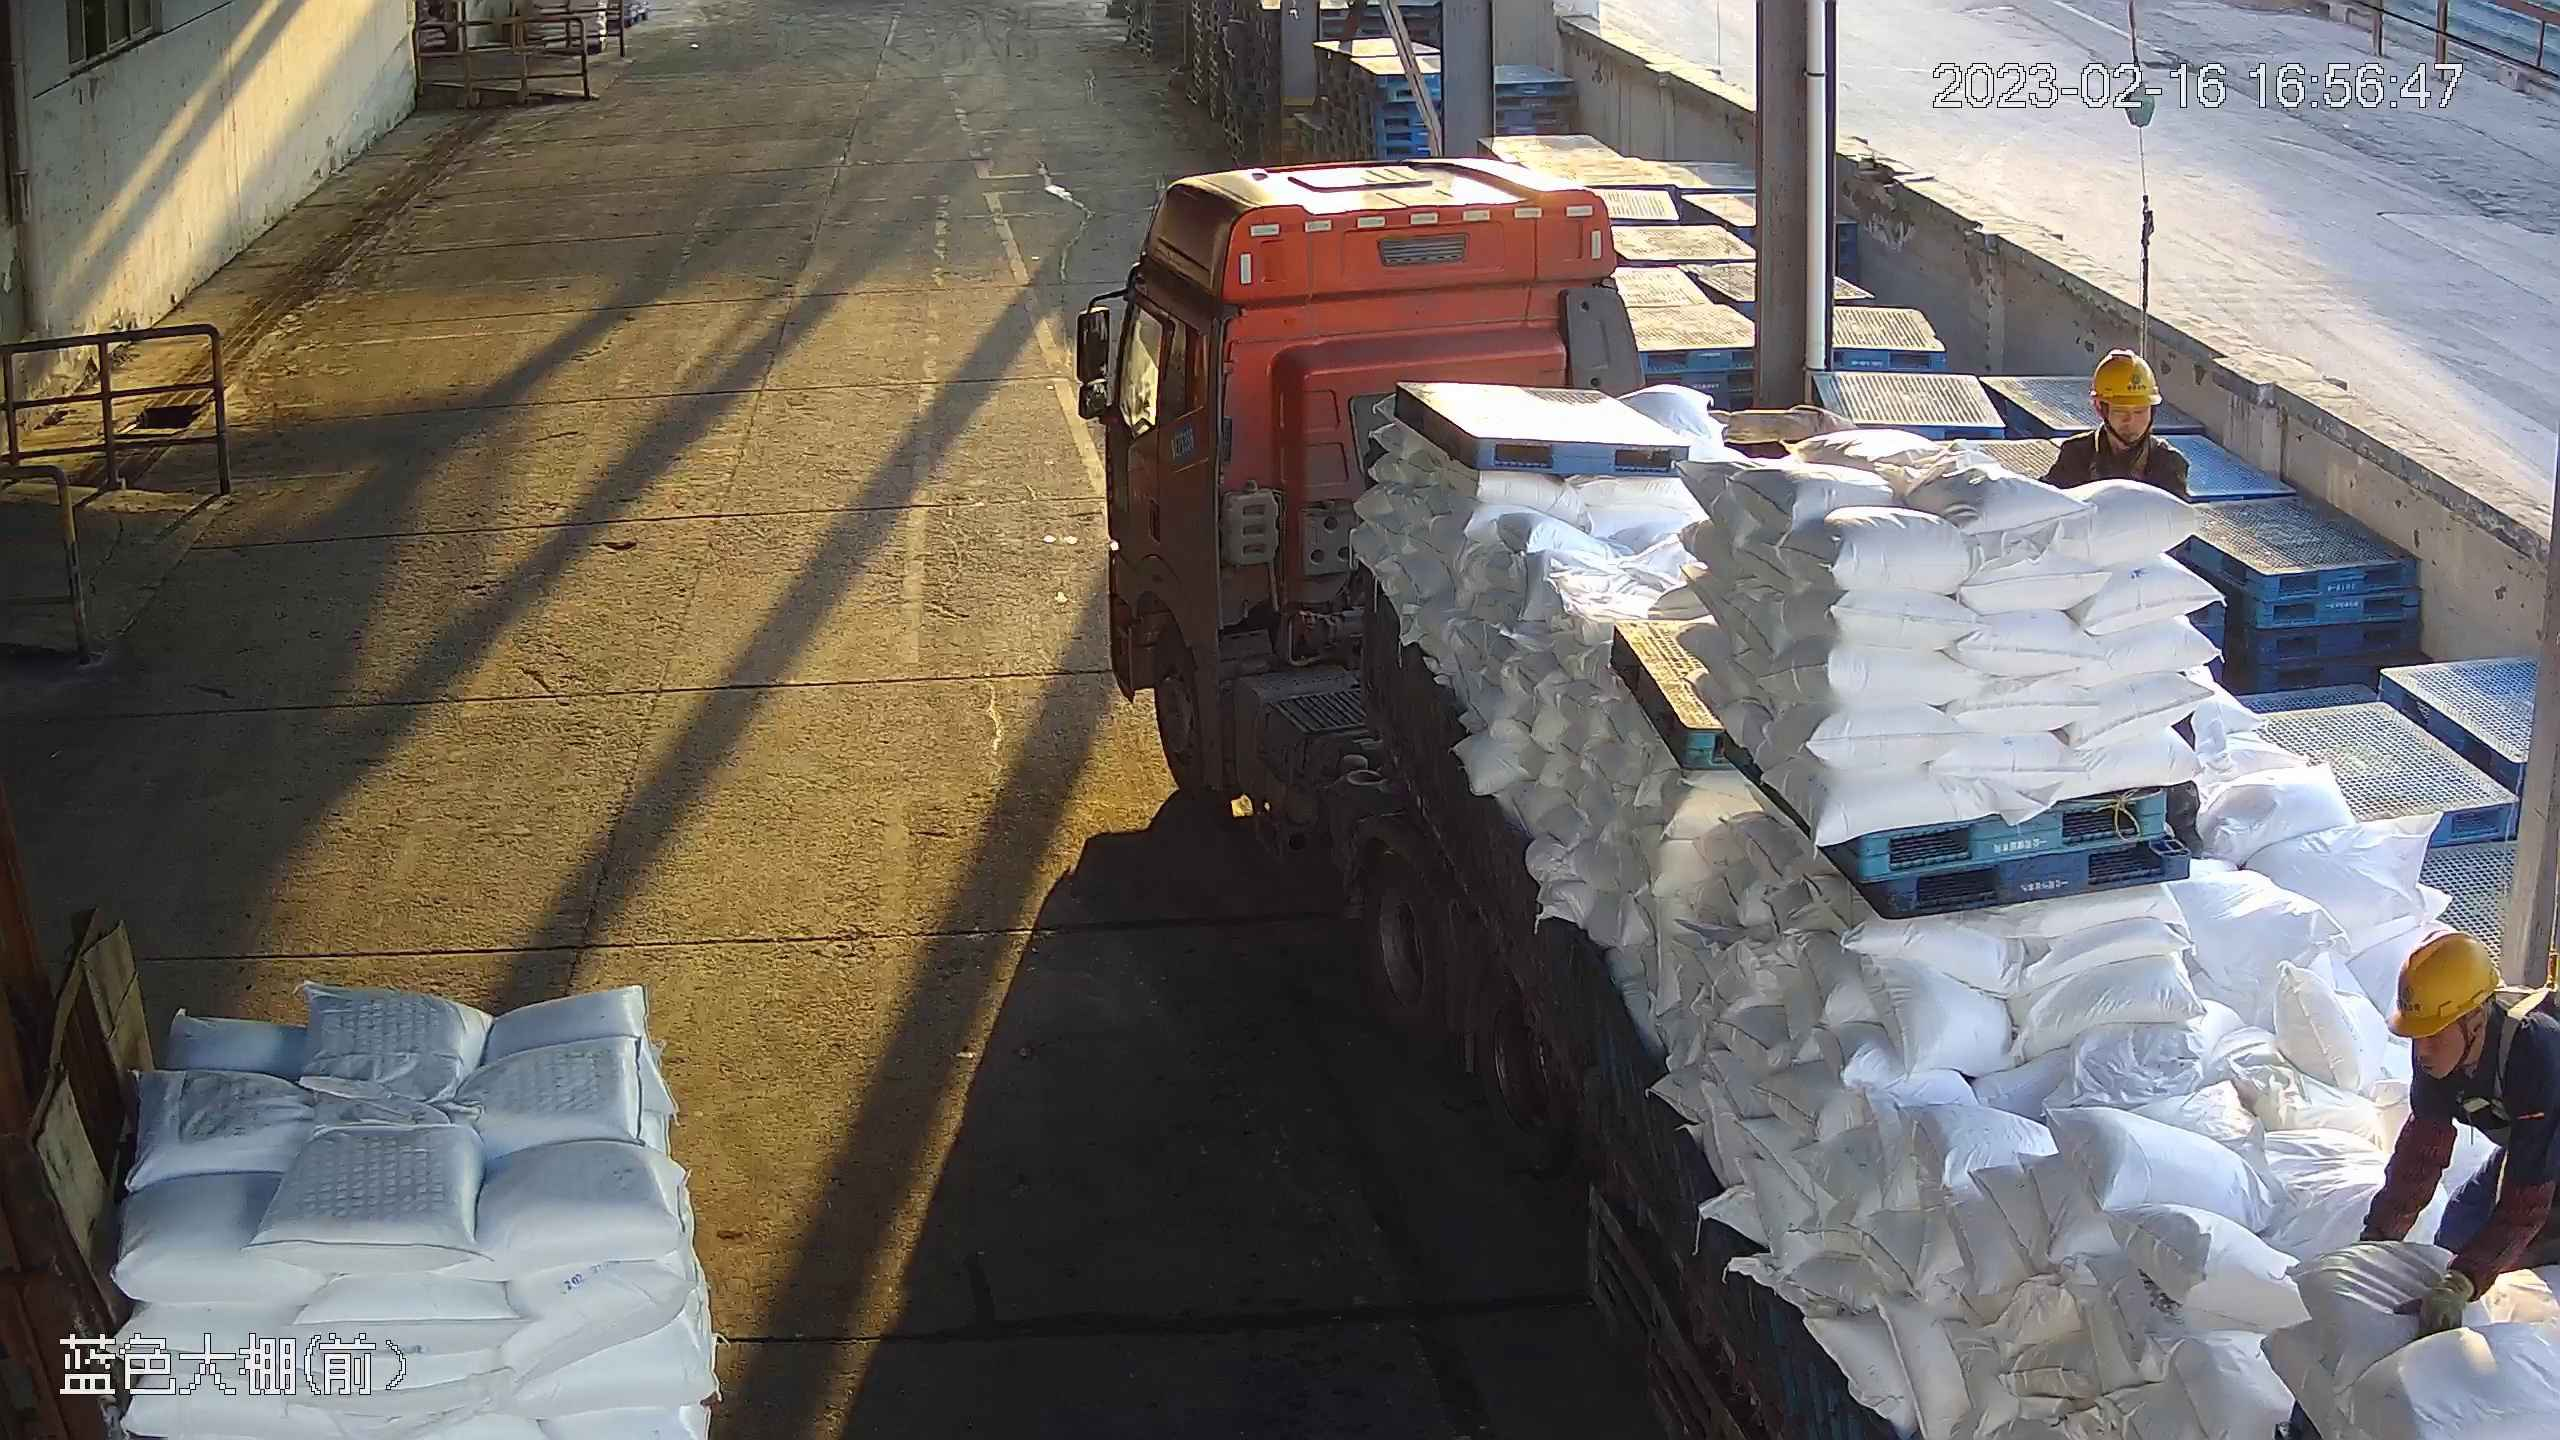belt: (2477, 971, 2560, 1123), (2075, 414, 2155, 482)
head: (2381, 940, 2560, 1160), (2046, 347, 2190, 491)
helmet: (2385, 932, 2512, 1047), (2096, 349, 2170, 406)
truck: (1070, 164, 2560, 1440)
